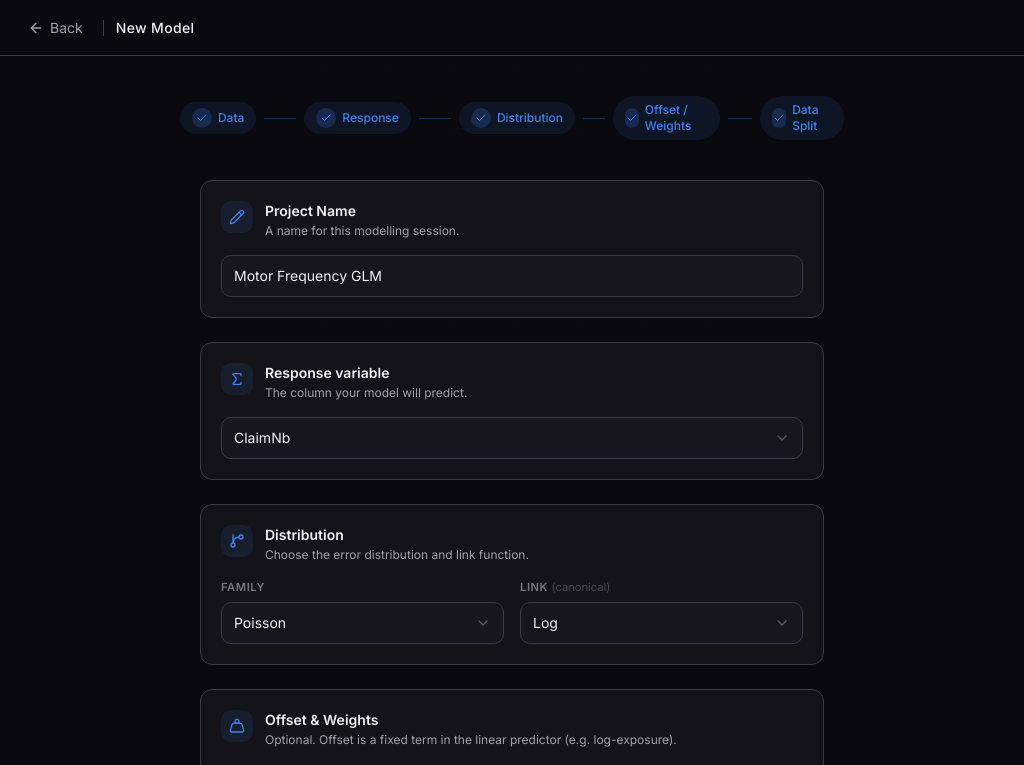
Test case: ModelConfigPage — with previous config › family dropdown shows options when clicked
The width and height of the screenshot is (1024, 765).
// Find the button that currently shows "Poisson" and click it
Click the button "Poisson" at (260, 622), box [221,602,504,644]
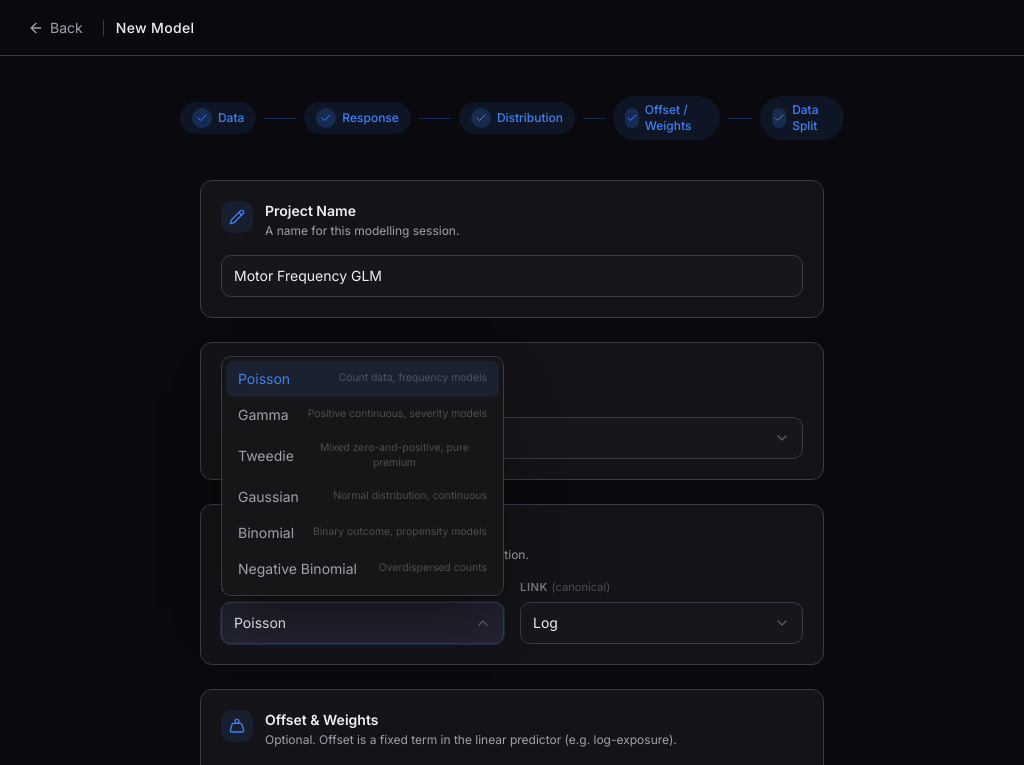
Result: the text "Gamma" is shown at [238,406,289,423]
Result: the text "Tweedie" is shown at [238,446,294,466]
Result: the text "Gaussian" is shown at [238,488,299,504]
